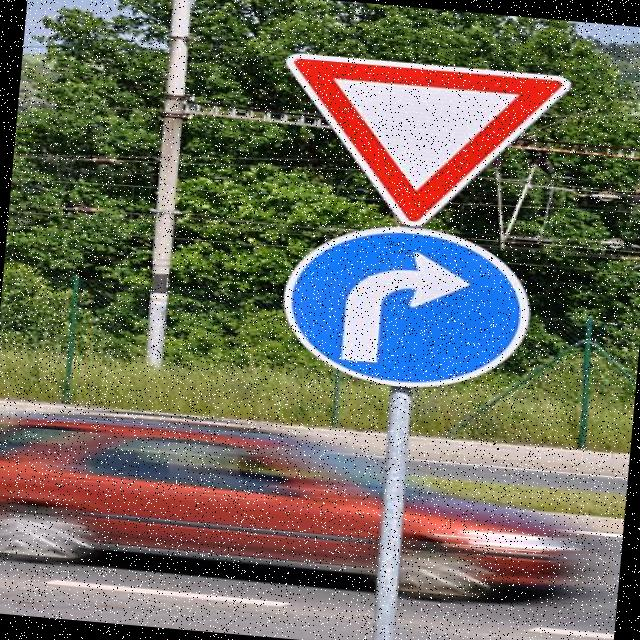give_way: (268, 32, 584, 241)
